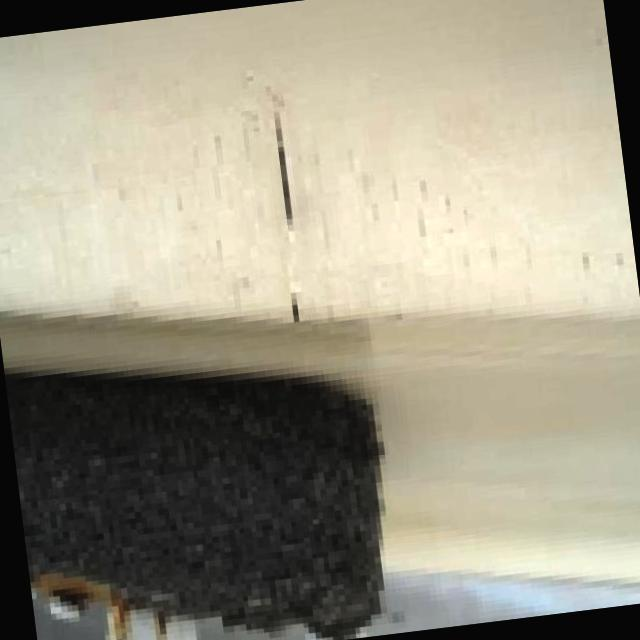crack: (266, 108, 309, 322)
